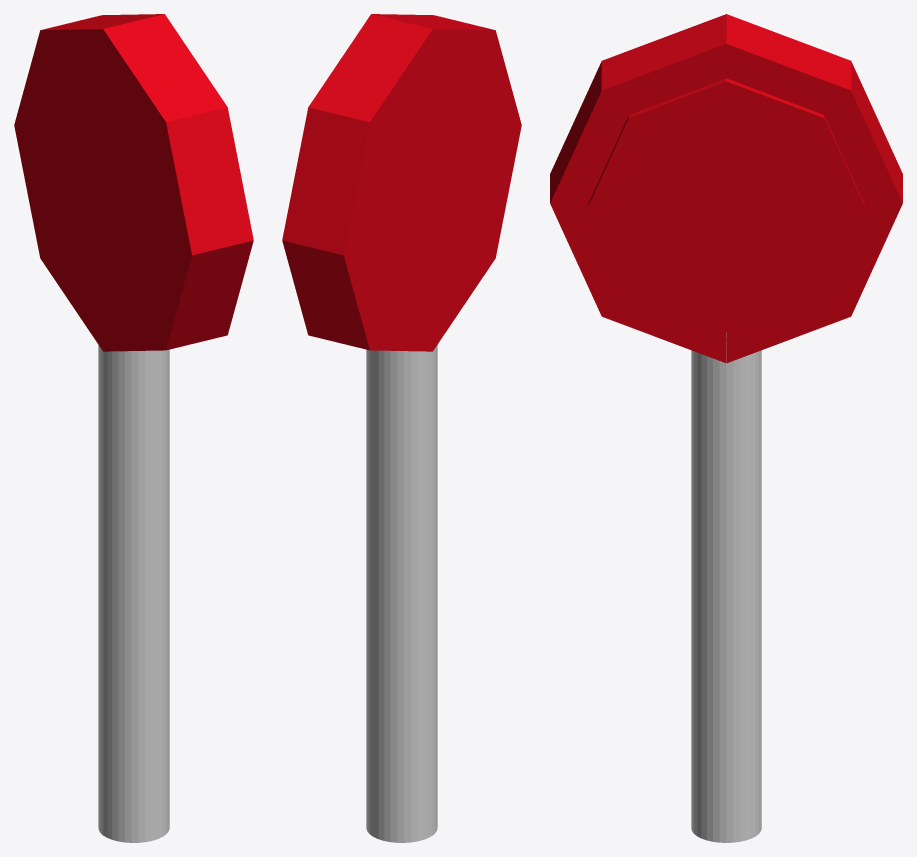
Rendered from StopSign.fbx.
The picture shows the model from 3 angles, left to right: view 1: azimuth 30°, elevation 25°; view 2: azimuth 150°, elevation 25°; view 3: azimuth 270°, elevation 25°; orthographic projection.
Visible parts, largest first — view 1: Cylinder.001; view 2: Cylinder.001; view 3: Cylinder.001.
Boxes of the visible parts, x1,y1,x2,y2 form: Cylinder.001: [14, 14, 253, 842]; Cylinder.001: [282, 14, 521, 842]; Cylinder.001: [550, 14, 902, 842].
Bounding box in the file's own units: 110 × 1250 × 500.
